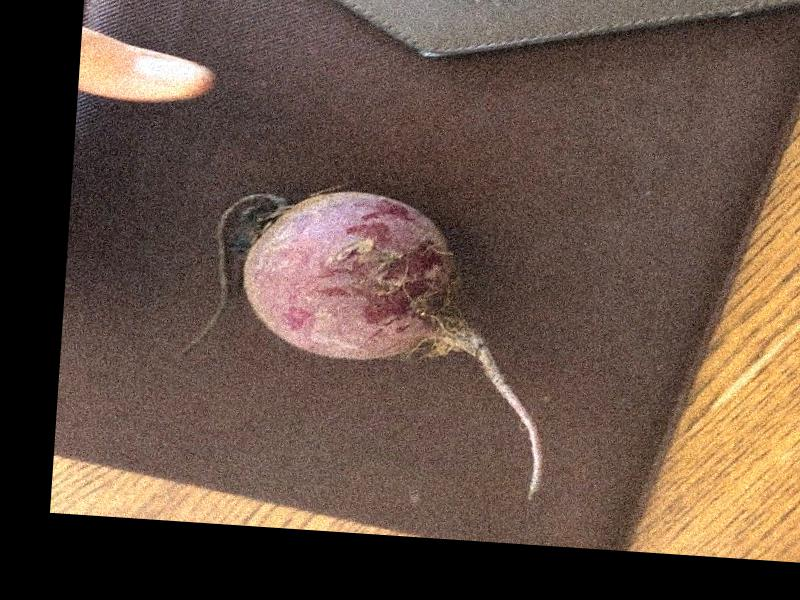Beet: (173, 181, 560, 497)
